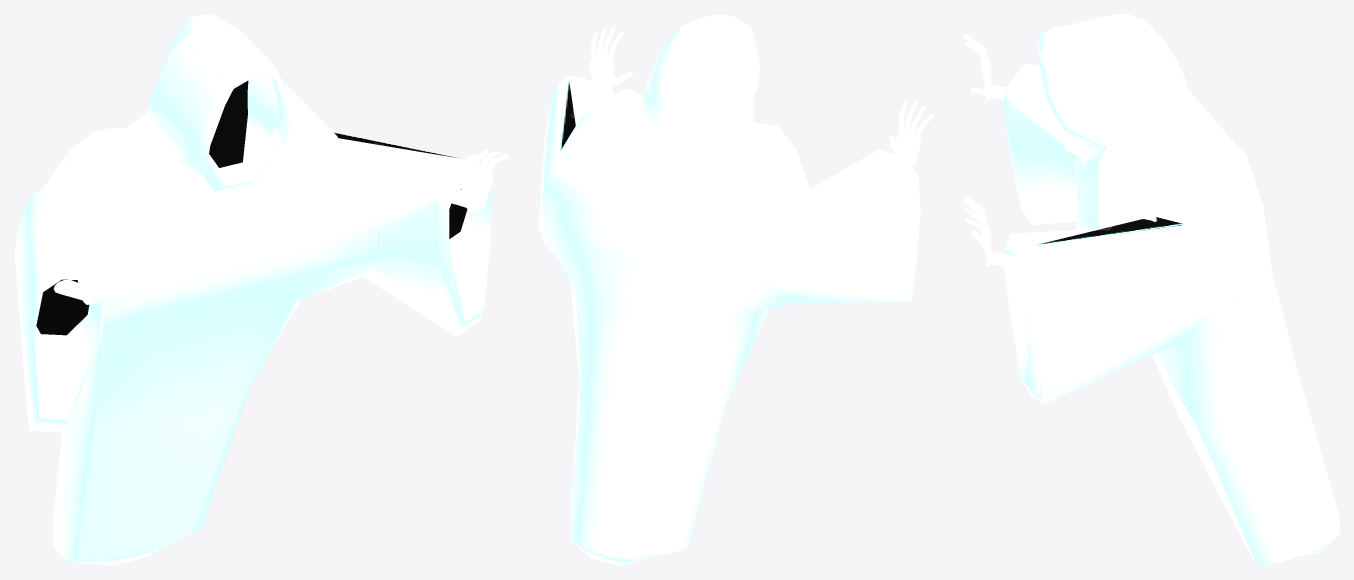
Rendered from miedo ghost.fbx.
3 views of the same model, side by side, from view 1: azimuth 30°, elevation 25°; view 2: azimuth 150°, elevation 25°; view 3: azimuth 270°, elevation 25° (orthographic). The views are drawn at different scales.
Visible parts, largest first — view 1: polySurface26; view 2: polySurface26; view 3: polySurface26.
Boxes of the visible parts, bbox=[...] form: polySurface26: bbox=[14, 14, 509, 565]; polySurface26: bbox=[538, 14, 934, 565]; polySurface26: bbox=[963, 14, 1339, 565].
Size of the model in its own units: 97.79 by 120 by 76.34.
1 material, 1 textured.
